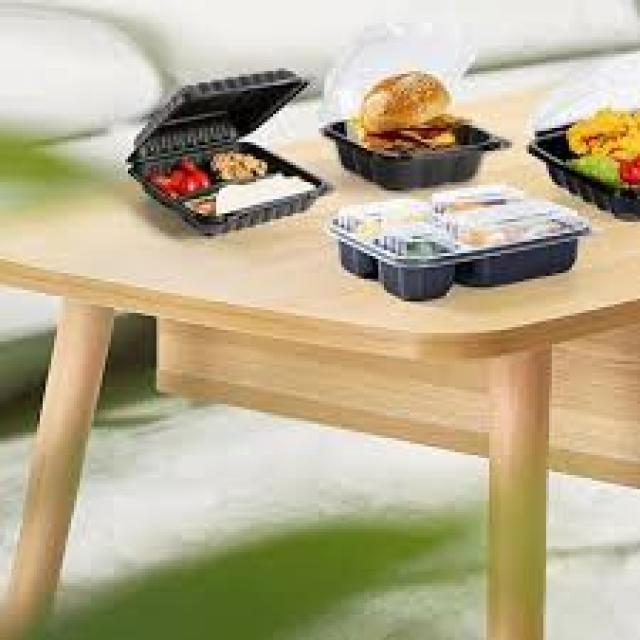disposable: (324, 190, 612, 297), (115, 134, 332, 248), (312, 109, 510, 193)
